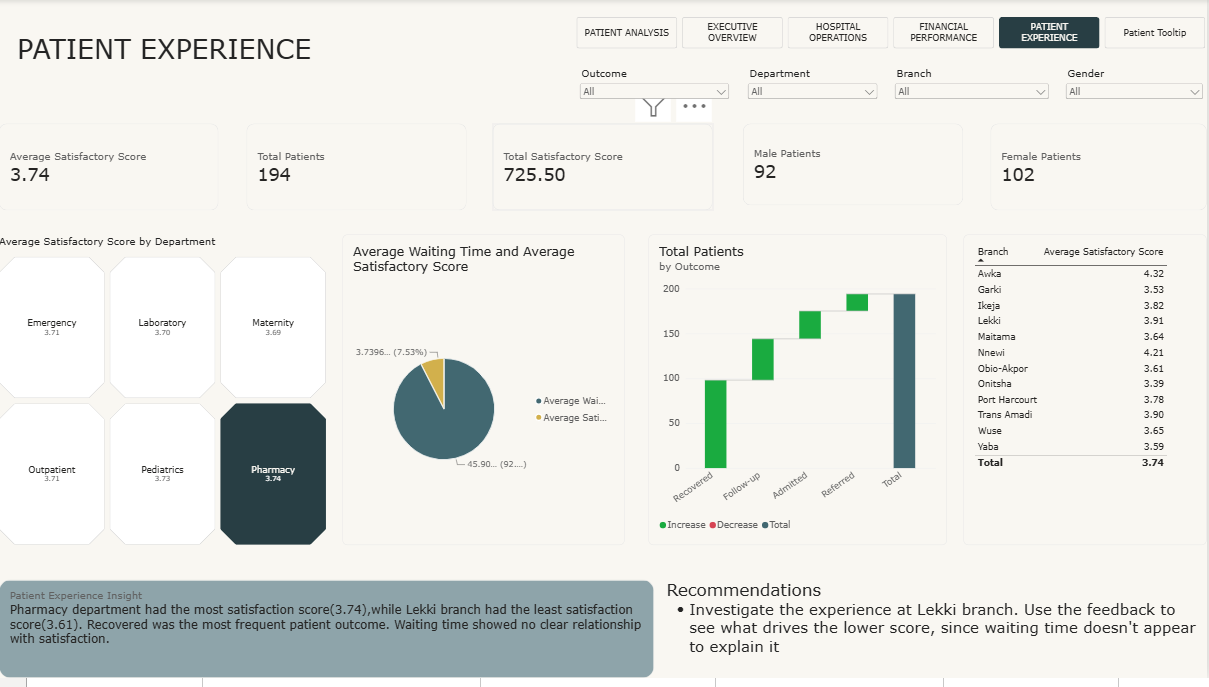

What the dashboard file says about the page in this screenshot:
{"tool":"powerbi","page":{"name":"PATIENT EXPERIENCE","canvas":[1920,1080],"ordinal":4},"visuals":[{"type":"cardVisual","fields":{"Data":["Patient_Visits.Average Satisfactory Score"]},"box":[0,199.2,349.8,138.4],"z":0},{"type":"cardVisual","fields":{"Data":["Patient_Visits.Total Patients"]},"box":[393.5,199.2,350,138],"z":1000},{"type":"cardVisual","fields":{"Data":["Patient_Visits.Total Satisfactory Score"]},"box":[784.5,199.2,350,138],"z":2000},{"type":"slicer","fields":{"Values":["Patient_Visits.Gender"]},"box":[1690.5,106.9,228.3,51],"z":3000},{"type":"pageNavigator","box":[918.4,28.3,1000,50],"z":4000},{"type":"textbox","box":[29.1,53.4,517.3,53.4],"z":5000},{"type":"slicer","fields":{"Values":["Patient_Visits.Branch"]},"box":[1418.4,106.9,255,51],"z":6000},{"type":"slicer","fields":{"Values":["Patient_Visits.Department"]},"box":[1185.3,106.9,216.2,51],"z":7000},{"type":"slicer","fields":{"Values":["Patient_Visits.Outcome"]},"box":[918.1,106.9,247.7,51],"z":8000},{"type":"advancedSlicerVisual","fields":{"Label":["Patient_Visits.Average Satisfactory Score"],"Values":["Patient_Visits.Department"]},"box":[0,374.6,522.5,419.9],"z":9000},{"type":"pieChart","fields":{"Y":["Patient_Visits.Average Waiting Time","Patient_Visits.Average Satisfactory Score"]},"box":[546.4,374.6,448.6,419.9],"z":10000},{"type":"cardVisual","fields":{"Data":["Patient_Visits.Male Patients"]},"box":[1182.8,199.2,350,130],"z":11000},{"type":"cardVisual","fields":{"Data":["Patient_Visits.Female Patients"]},"box":[1576.3,199.2,344.9,138],"z":12000},{"type":"textbox","box":[546,0,197,150],"z":13000},{"type":"cardVisual","fields":{"Data":["Date_Table.Patient Experience Insight"]},"box":[0,923.3,1042.6,157.5],"z":14000},{"type":"tableEx","fields":{"Values":["Patient_Visits.Branch","Patient_Visits.Average Satisfactory Score"]},"box":[1534.1,374.6,386.5,429.5],"z":15000},{"type":"waterfallChart","fields":{"Category":["Patient_Visits.Outcome"],"Y":["Patient_Visits.Total Patients"]},"box":[1033.1,374.6,474.8,419.9],"z":16000},{"type":"textbox","box":[1061.7,923.3,856.5,157.5],"z":17000}]}

Visuals, with their boxes in screenshot pixels (x1, y1, x2, y2), scaled from the page's 1920x1080 canvas onto the 1209x687 screenshot:
cardVisual - Patient_Visits.Average Satisfactory Score: {"left": 0, "top": 127, "right": 220, "bottom": 215}
cardVisual - Patient_Visits.Total Patients: {"left": 248, "top": 127, "right": 468, "bottom": 214}
cardVisual - Patient_Visits.Total Satisfactory Score: {"left": 494, "top": 127, "right": 714, "bottom": 214}
slicer - Patient_Visits.Gender: {"left": 1064, "top": 68, "right": 1208, "bottom": 100}
pageNavigator: {"left": 578, "top": 18, "right": 1208, "bottom": 50}
textbox: {"left": 18, "top": 34, "right": 344, "bottom": 68}
slicer - Patient_Visits.Branch: {"left": 893, "top": 68, "right": 1054, "bottom": 100}
slicer - Patient_Visits.Department: {"left": 746, "top": 68, "right": 883, "bottom": 100}
slicer - Patient_Visits.Outcome: {"left": 578, "top": 68, "right": 734, "bottom": 100}
advancedSlicerVisual - Patient_Visits.Average Satisfactory Score x Patient_Visits.Department: {"left": 0, "top": 238, "right": 329, "bottom": 505}
pieChart - Patient_Visits.Average Waiting Time x Patient_Visits.Average Satisfactory Score: {"left": 344, "top": 238, "right": 627, "bottom": 505}
cardVisual - Patient_Visits.Male Patients: {"left": 745, "top": 127, "right": 965, "bottom": 209}
cardVisual - Patient_Visits.Female Patients: {"left": 993, "top": 127, "right": 1208, "bottom": 214}
textbox: {"left": 344, "top": 0, "right": 468, "bottom": 95}
cardVisual - Date_Table.Patient Experience Insight: {"left": 0, "top": 587, "right": 657, "bottom": 686}
tableEx - Patient_Visits.Branch x Patient_Visits.Average Satisfactory Score: {"left": 966, "top": 238, "right": 1208, "bottom": 511}
waterfallChart - Patient_Visits.Outcome x Patient_Visits.Total Patients: {"left": 651, "top": 238, "right": 950, "bottom": 505}
textbox: {"left": 669, "top": 587, "right": 1208, "bottom": 686}
